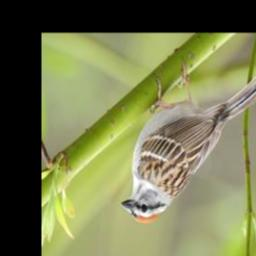Sparrow: (118, 57, 256, 224)
